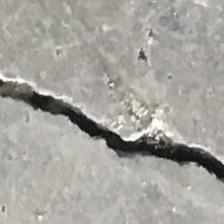Crack: (0, 61, 224, 203)
